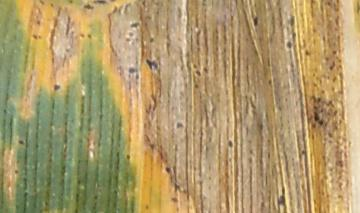tarspot: (288, 11, 298, 40), (276, 185, 286, 207), (148, 92, 159, 111), (337, 98, 346, 120), (144, 57, 158, 71), (144, 134, 155, 151), (308, 94, 322, 107), (313, 109, 324, 125), (73, 192, 81, 213), (64, 14, 71, 37), (22, 190, 29, 213), (194, 29, 201, 52), (308, 1, 316, 21), (247, 94, 256, 110), (52, 82, 63, 94), (332, 158, 344, 169), (323, 98, 335, 109), (168, 195, 182, 203), (60, 55, 67, 71), (163, 164, 173, 175), (82, 2, 93, 12), (173, 182, 183, 193), (311, 80, 320, 92), (251, 14, 259, 27), (145, 103, 153, 116), (332, 1, 340, 14), (178, 54, 184, 71), (193, 12, 199, 29), (127, 65, 138, 74), (129, 20, 140, 29), (256, 122, 265, 133), (225, 139, 235, 148), (165, 41, 171, 56), (176, 5, 182, 20), (184, 61, 192, 72), (354, 1, 360, 15), (333, 14, 340, 26), (147, 36, 156, 45), (302, 48, 311, 57), (174, 121, 184, 129), (16, 138, 26, 146), (123, 151, 131, 161), (328, 60, 336, 70), (1, 107, 11, 115), (144, 13, 152, 23), (285, 39, 292, 50), (266, 150, 273, 161), (306, 113, 313, 124), (140, 1, 148, 10), (250, 109, 258, 118), (320, 32, 327, 42), (111, 188, 119, 196), (85, 31, 92, 40), (247, 156, 254, 165), (93, 1, 108, 5), (229, 13, 235, 23), (233, 1, 239, 11), (311, 24, 317, 34), (248, 147, 254, 157), (194, 68, 201, 76), (62, 47, 70, 54), (127, 30, 135, 37), (332, 74, 337, 85), (79, 31, 85, 40), (31, 32, 37, 41), (144, 202, 150, 211), (300, 148, 306, 157), (13, 168, 20, 175), (200, 66, 208, 72), (48, 1, 54, 9), (267, 77, 273, 85), (310, 71, 316, 79), (326, 131, 334, 137), (266, 137, 271, 146), (191, 62, 197, 69), (192, 82, 199, 88), (332, 48, 338, 55), (93, 194, 99, 201), (133, 37, 140, 43), (327, 139, 333, 146), (125, 37, 131, 43), (35, 19, 40, 26), (15, 158, 20, 165), (38, 1, 45, 5), (67, 1, 73, 5), (325, 1, 329, 7), (108, 1, 114, 4)
